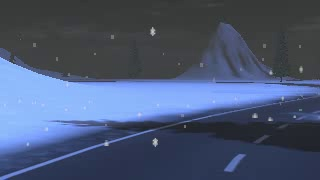Lane: (2, 95, 319, 179)
